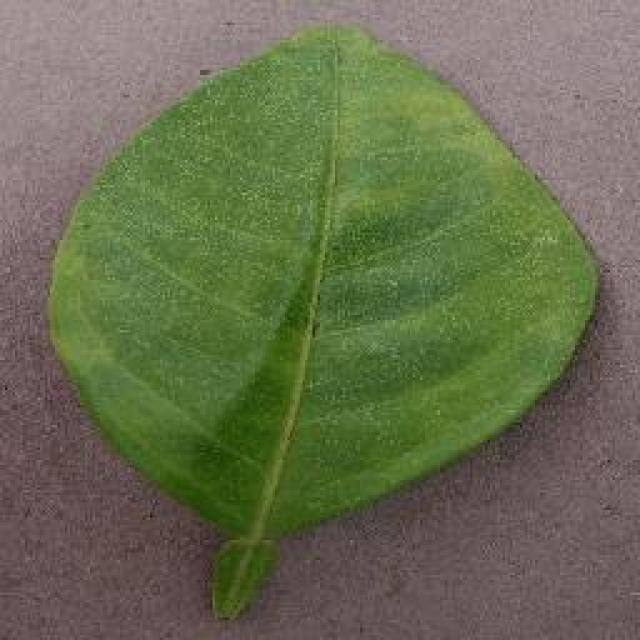Orange_Haunglongbing_Citrus_greening: (101, 71, 529, 492)
